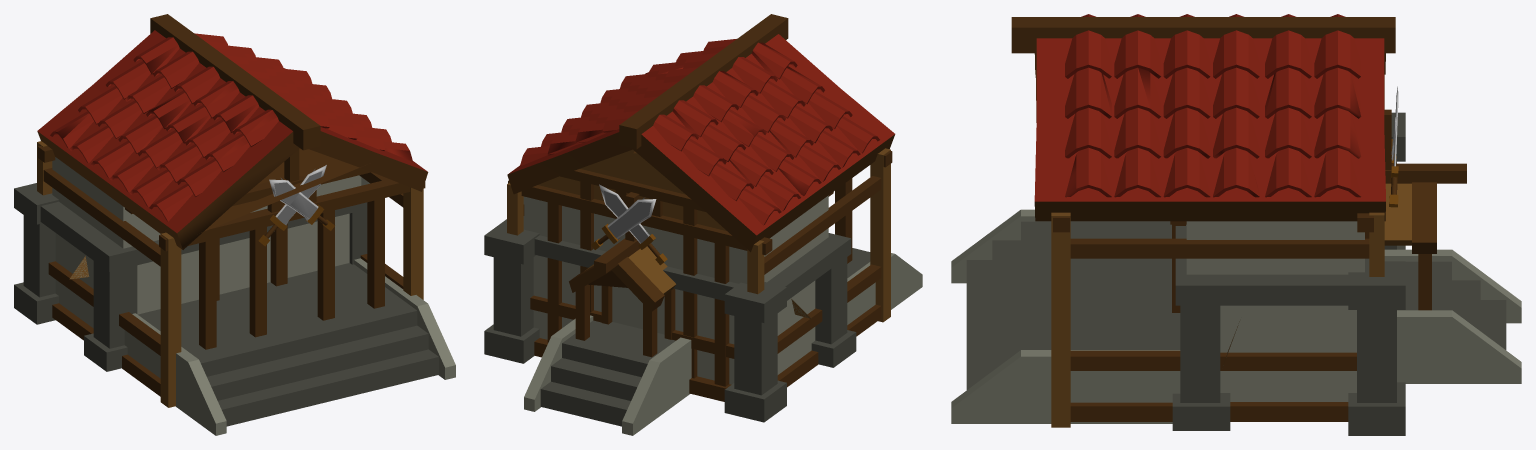
File: Barracks_SecondAge_Level1.fbx
3 views of the same model, side by side, from view 1: azimuth 30°, elevation 25°; view 2: azimuth 150°, elevation 25°; view 3: azimuth 270°, elevation 25° (orthographic). The views are drawn at different scales.
Parts seen in each view (by area): view 1: High_Barracks_SecondAge_Level1, Low_Barracks_SecondAge_Level1; view 2: High_Barracks_SecondAge_Level1, Low_Barracks_SecondAge_Level1; view 3: High_Barracks_SecondAge_Level1.
Part boxes in pixels (bbox=[...]): High_Barracks_SecondAge_Level1: bbox=[14, 14, 455, 435]; Low_Barracks_SecondAge_Level1: bbox=[69, 148, 365, 279]; High_Barracks_SecondAge_Level1: bbox=[484, 14, 922, 435]; Low_Barracks_SecondAge_Level1: bbox=[588, 151, 811, 318]; High_Barracks_SecondAge_Level1: bbox=[951, 14, 1521, 435].
Size of the model in its own units: 101 by 89.31 by 141.
